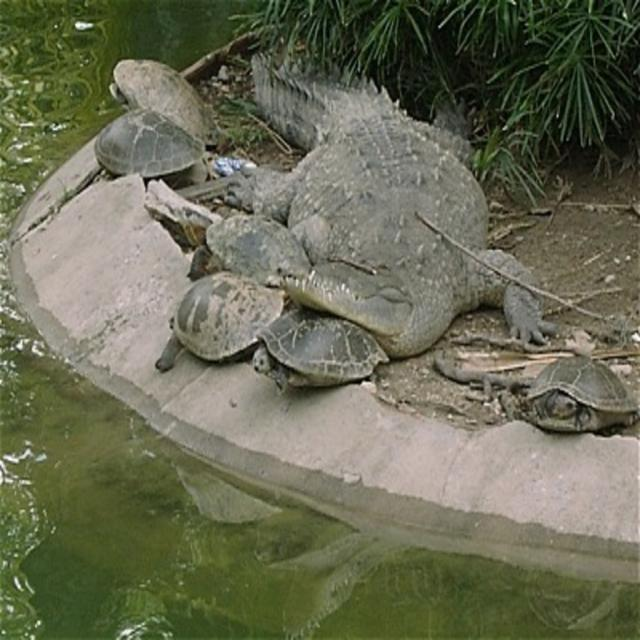crocodile: (191, 22, 574, 372)
